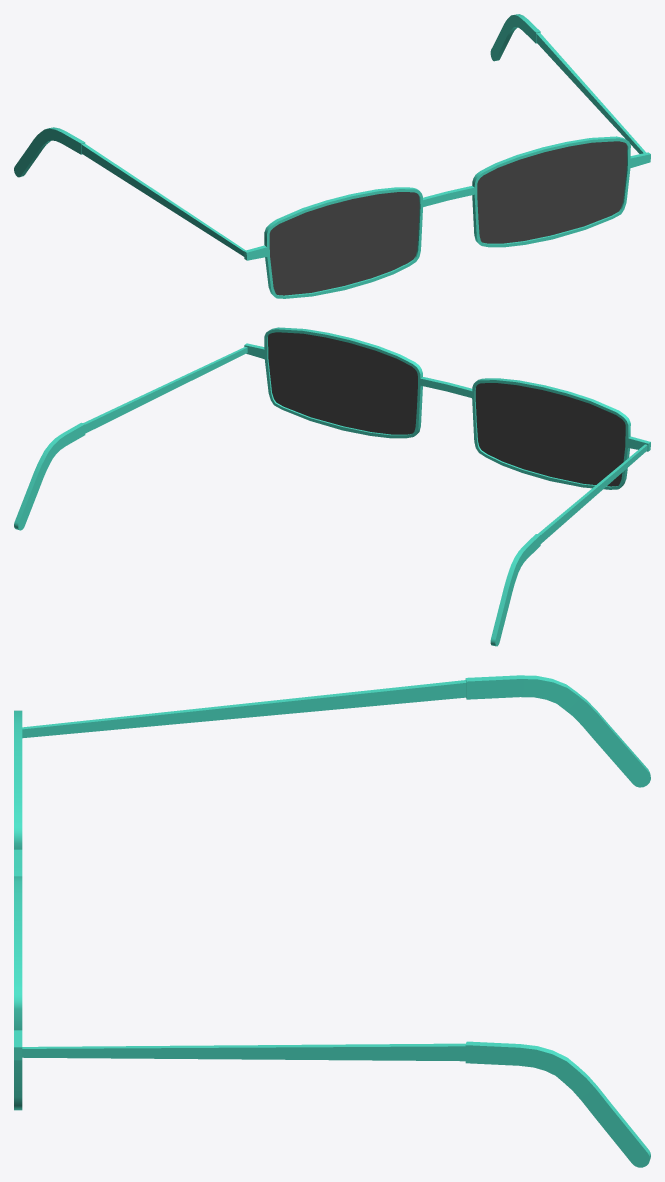
Rendered from Glasses-7NZp449iJq.glb.
3 views of the same model, one above another, from view 1: azimuth 30°, elevation 25°; view 2: azimuth 150°, elevation 25°; view 3: azimuth 270°, elevation 25° (orthographic). The views are drawn at different scales.
Visible parts, largest first — view 1: Glasses-7NZp449iJq; view 2: Glasses-7NZp449iJq; view 3: Glasses-7NZp449iJq.
Boxes of the visible parts, x1,y1,x2,y2 form: Glasses-7NZp449iJq: (14,14,650,298); Glasses-7NZp449iJq: (14,327,650,646); Glasses-7NZp449iJq: (14,675,650,1167).
Size of the model in its own units: 2.11 by 0.3851 by 1.47.
